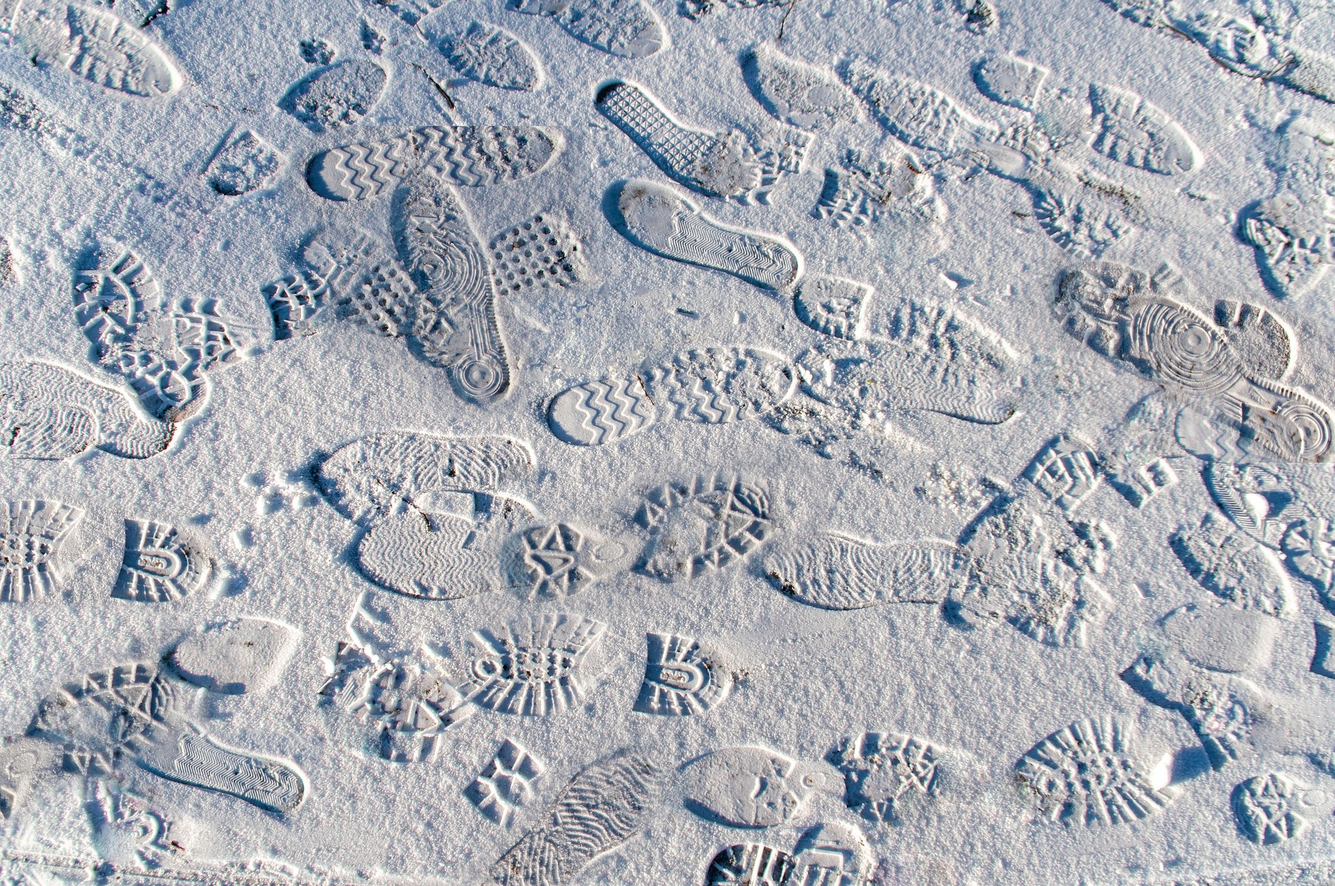human_foot_print: (0, 0, 1334, 885), (261, 172, 585, 404), (838, 57, 1200, 257), (758, 470, 1116, 646), (1054, 263, 1334, 461), (27, 662, 308, 812), (312, 432, 533, 600), (798, 284, 1019, 424), (72, 245, 243, 421), (391, 173, 511, 404), (975, 54, 1203, 175), (594, 80, 809, 201), (548, 347, 797, 445), (489, 751, 666, 885), (1101, 0, 1334, 100), (605, 179, 804, 292), (312, 432, 534, 521), (307, 125, 563, 200), (355, 492, 533, 599), (261, 224, 419, 341), (1015, 716, 1174, 826), (4, 0, 182, 97), (0, 361, 176, 459), (1239, 117, 1334, 297), (839, 59, 998, 160), (634, 473, 778, 582), (455, 614, 606, 716), (762, 534, 966, 609), (683, 746, 843, 827), (812, 141, 944, 227), (704, 821, 874, 885), (811, 149, 948, 228), (739, 43, 862, 130), (501, 523, 628, 598), (507, 0, 670, 58), (487, 212, 592, 295), (112, 518, 214, 602), (0, 500, 83, 602), (634, 632, 734, 716), (426, 20, 544, 90), (278, 58, 388, 133), (464, 737, 545, 826), (204, 131, 284, 197), (793, 274, 872, 340), (677, 0, 788, 19)
